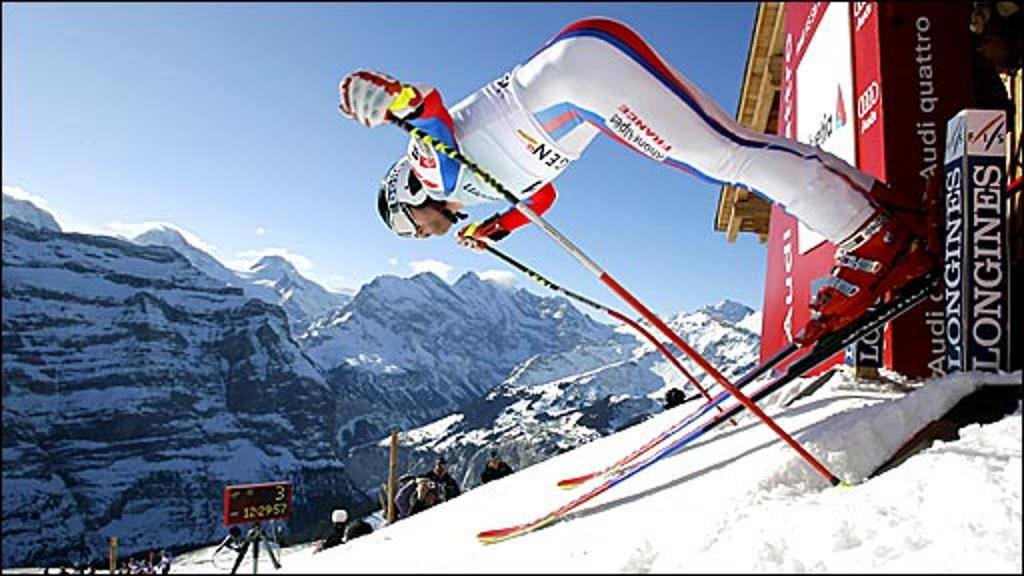face: (395, 187, 455, 237)
